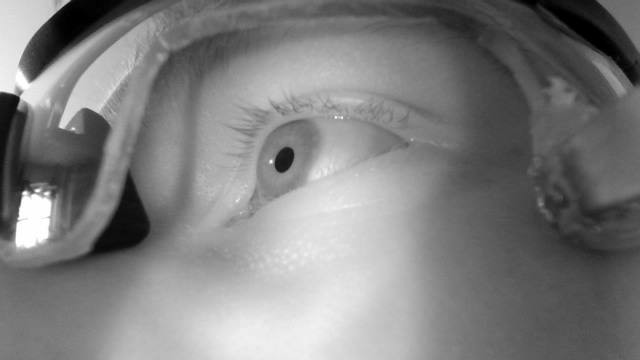pupil: (274, 146, 295, 174)
